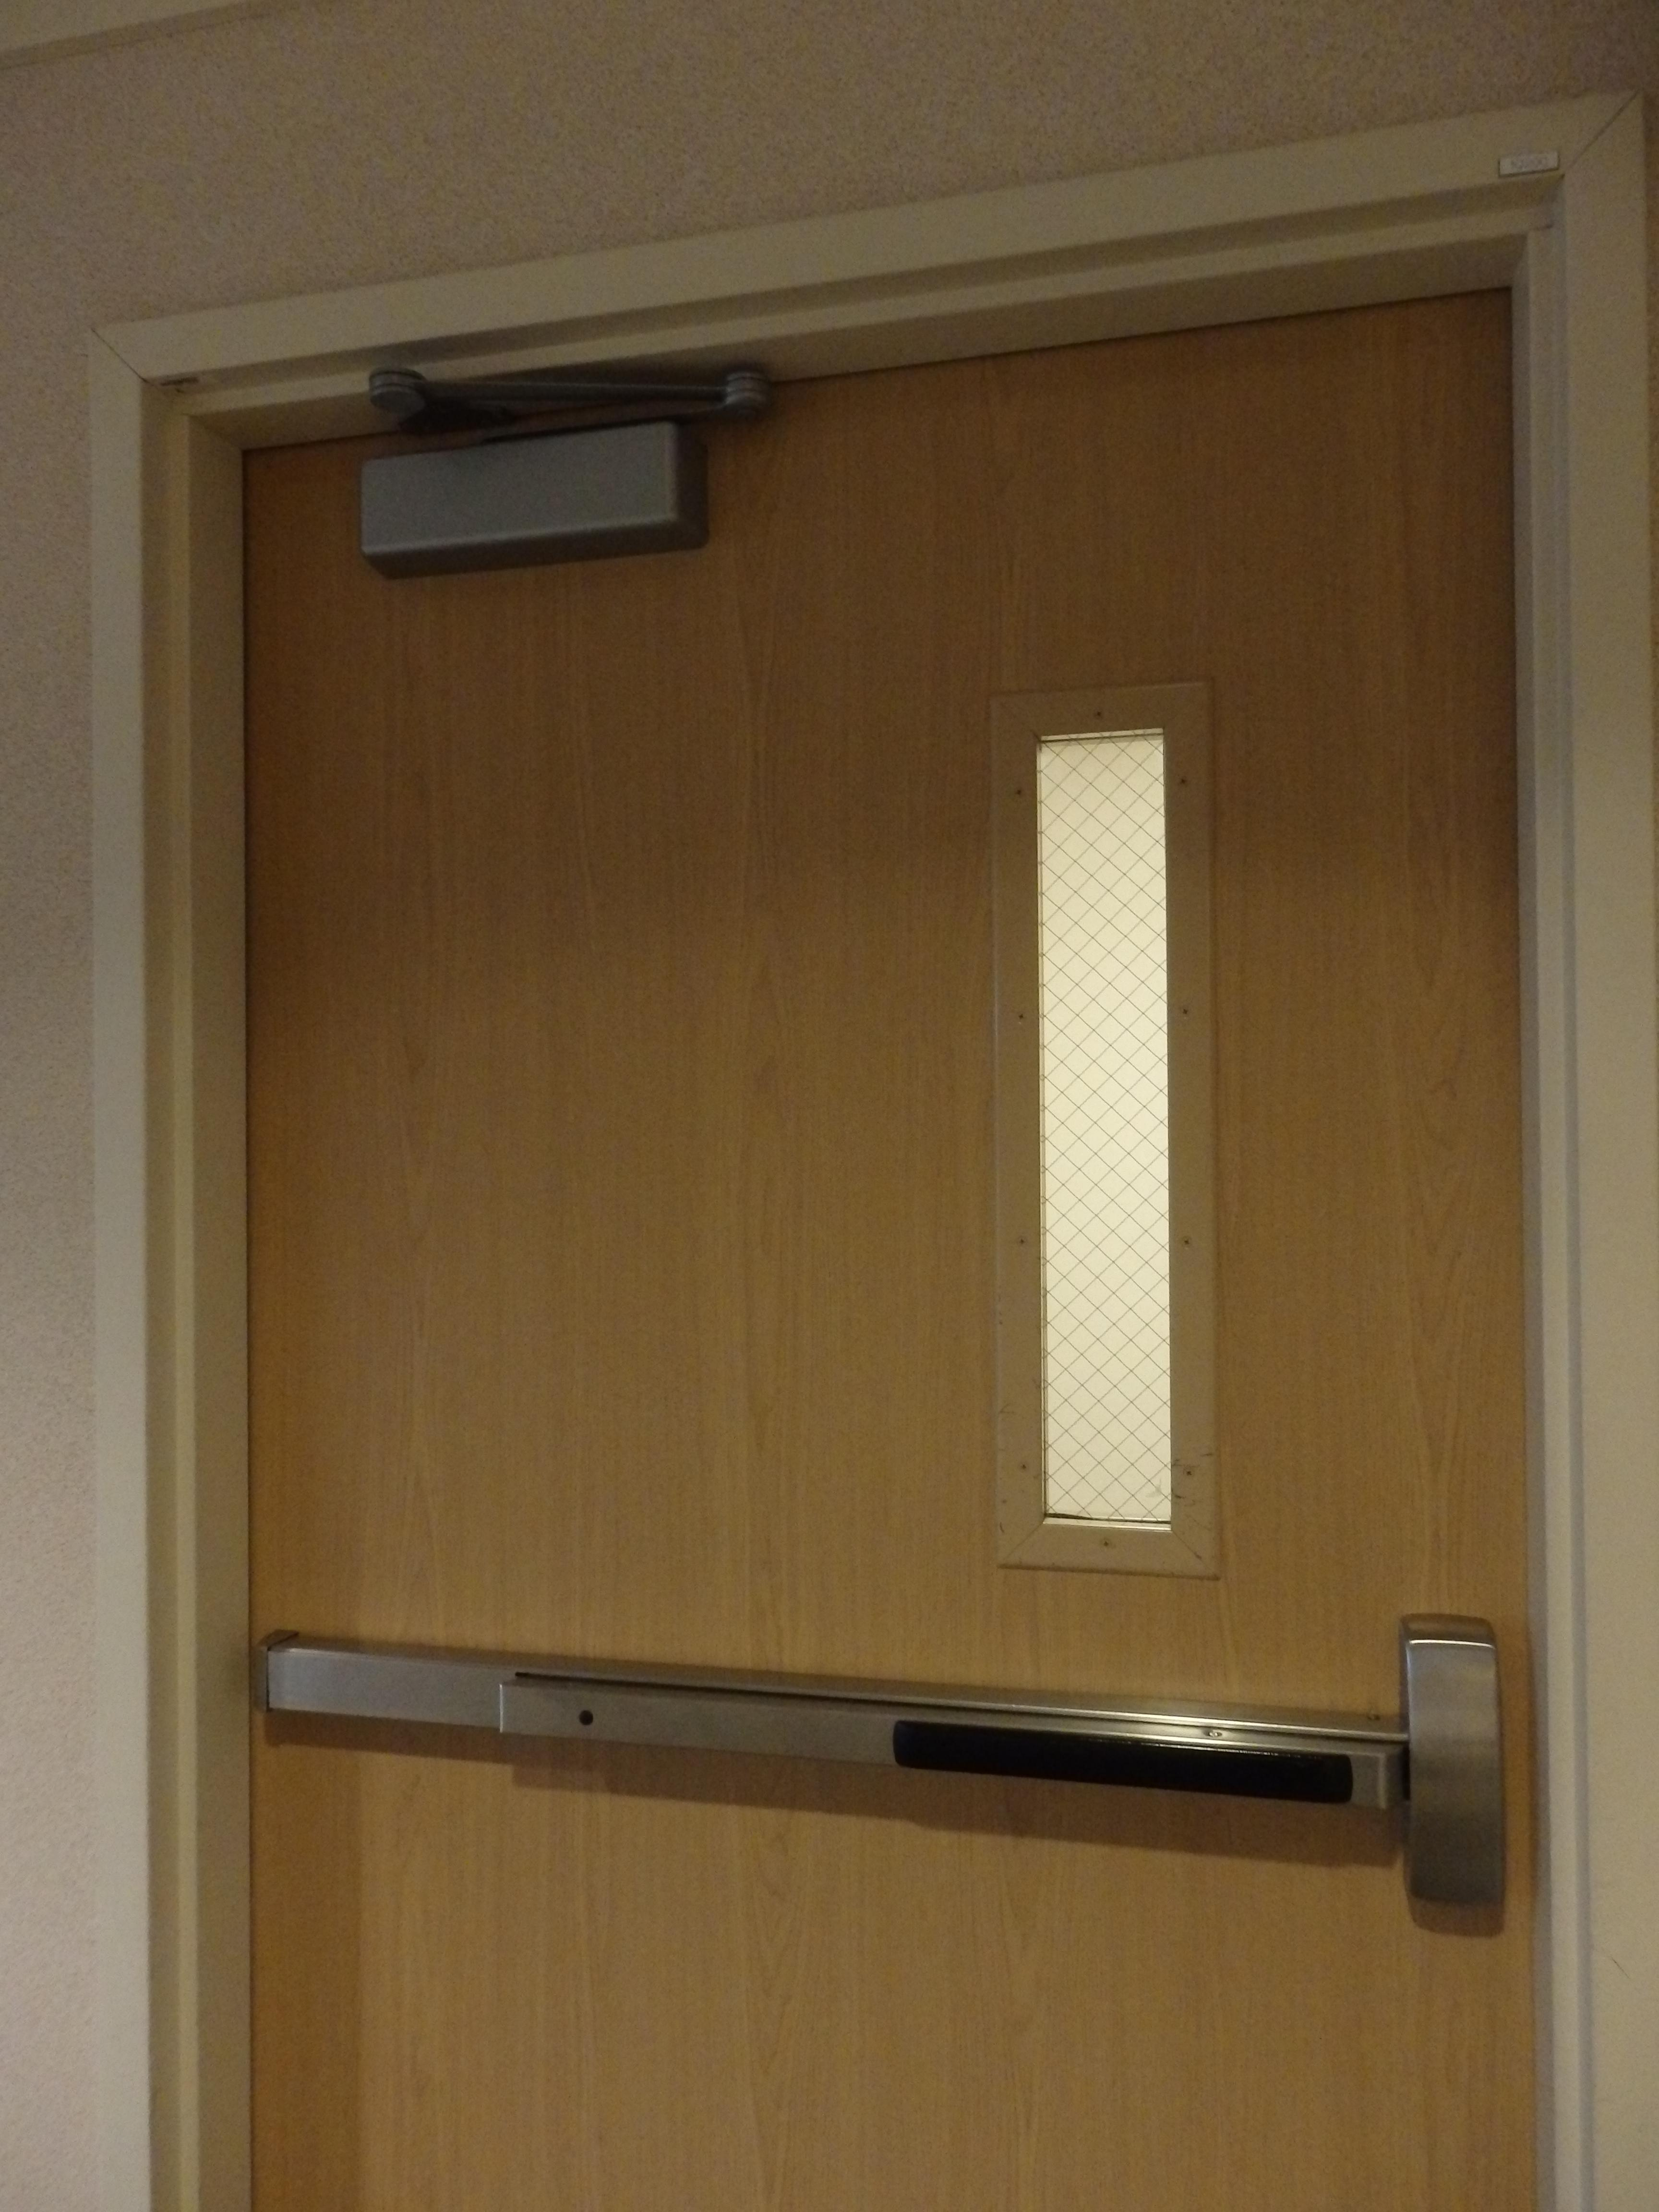door: (242, 289, 1535, 2212)
